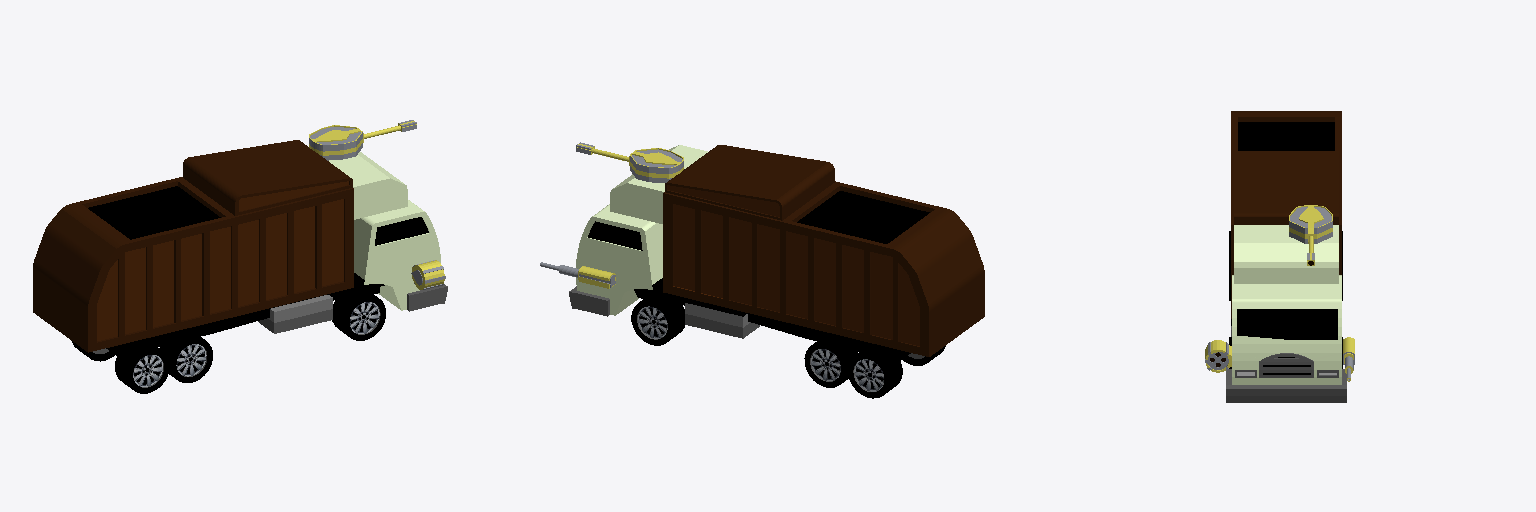
The picture shows the model from 3 angles: view 1: azimuth 30°, elevation 25°; view 2: azimuth 150°, elevation 25°; view 3: azimuth 270°, elevation 25°; orthographic projection.
Visible parts, largest first — view 1: Mesh1 Group3 Group2 Group1 Model, Mesh10 skpFD72_3 Model, Mesh6 skpFD72_1 Model, Mesh8 skpFD72_2 Model, Mesh5 skp289F1 Model, Mesh2 skp70CC1 Group2 Group1 Model; view 2: Mesh1 Group3 Group2 Group1 Model, Mesh12 skpFD72_4 Model, Mesh16 skpFD72_6 Model, Mesh14 skpFD72_5 Model, Mesh5 skp289F1 Model, Mesh3 skp7994_1 Group1 Model; view 3: Mesh1 Group3 Group2 Group1 Model, Mesh5 skp289F1 Model, Mesh2 skp70CC1 Group2 Group1 Model.
Boxes of the visible parts, box(x1,y1,x2,y2) form: Mesh1 Group3 Group2 Group1 Model: box(33, 140, 447, 356); Mesh10 skpFD72_3 Model: box(115, 344, 169, 393); Mesh6 skpFD72_1 Model: box(332, 292, 385, 340); Mesh8 skpFD72_2 Model: box(159, 334, 212, 382); Mesh5 skp289F1 Model: box(309, 125, 400, 160); Mesh2 skp70CC1 Group2 Group1 Model: box(411, 260, 445, 289); Mesh1 Group3 Group2 Group1 Model: box(569, 145, 984, 361); Mesh12 skpFD72_4 Model: box(631, 296, 684, 345); Mesh16 skpFD72_6 Model: box(848, 349, 902, 398); Mesh14 skpFD72_5 Model: box(804, 338, 857, 387); Mesh5 skp289F1 Model: box(591, 148, 683, 182); Mesh3 skp7994_1 Group1 Model: box(540, 262, 615, 288); Mesh1 Group3 Group2 Group1 Model: box(1226, 111, 1346, 402); Mesh5 skp289F1 Model: box(1289, 205, 1332, 252); Mesh2 skp70CC1 Group2 Group1 Model: box(1205, 340, 1231, 372).
Bounding box in the file's own units: 3.29 × 1.41 × 1.12.
14 materials, 1 textured.